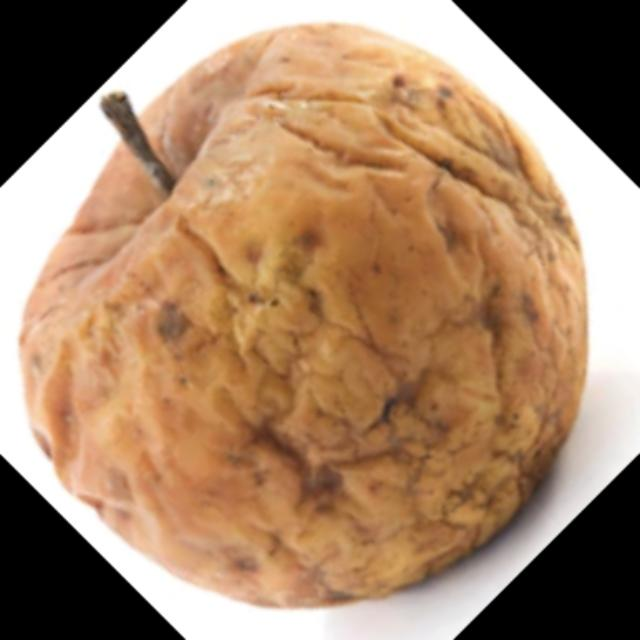Apel Tidak Segar: (24, 22, 586, 600)
